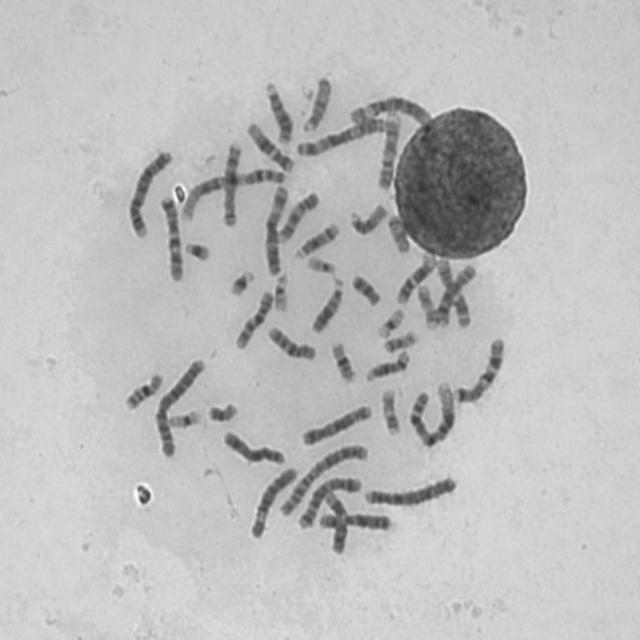A1: (175, 164, 288, 223), (404, 377, 458, 450)
A2: (275, 440, 370, 519), (150, 354, 207, 459)
A3: (292, 112, 389, 158), (260, 181, 290, 277)
B4: (124, 145, 174, 240), (358, 471, 459, 509)
B5: (293, 472, 365, 532), (297, 400, 374, 447)
C10: (230, 286, 274, 351), (264, 321, 318, 364)
C11: (432, 256, 473, 330), (319, 487, 349, 556)
C12: (242, 117, 296, 173), (392, 250, 438, 306)
C6: (246, 462, 299, 541), (346, 91, 434, 130)
C7: (448, 333, 507, 405), (155, 191, 185, 283)
C8: (217, 136, 249, 228), (434, 266, 480, 328)
C9: (274, 187, 322, 244), (372, 107, 402, 192)
D13: (260, 77, 294, 149), (308, 273, 346, 336)
D14: (292, 218, 342, 261), (362, 345, 412, 384)
D15: (298, 72, 334, 134), (346, 199, 388, 237)
E16: (119, 368, 165, 413), (327, 337, 358, 385)
E17: (377, 384, 402, 437), (414, 280, 440, 330)
E18: (347, 269, 382, 308), (383, 214, 413, 254)
F19: (373, 304, 406, 340), (164, 406, 204, 430)
F20: (380, 327, 420, 354), (205, 401, 237, 422)
G21: (224, 266, 256, 298), (180, 237, 212, 263)
G22: (269, 269, 291, 313), (304, 252, 338, 276)
X: (218, 427, 287, 467), (314, 508, 396, 534)
